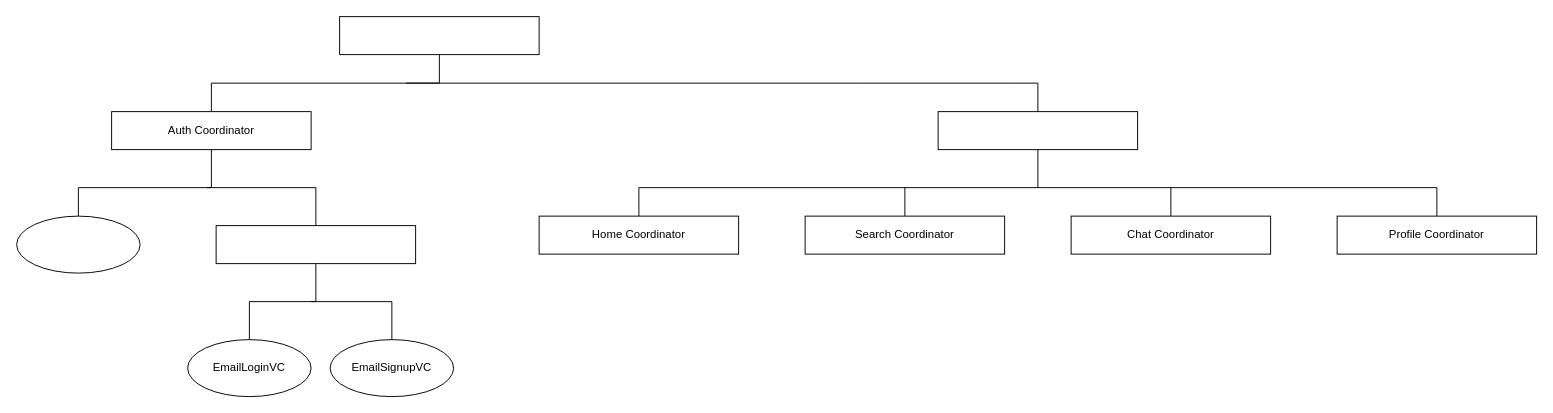
Some shapes in this 1553 by 413 pixel diagram are drawn without their labels. Each missing label, with the centre of its shape:
Application Coordinator: point (439, 35)
Email Signin Coordinator: point (315, 244)
Login VC: point (78, 244)
TabBar Coordinator: point (1037, 130)
